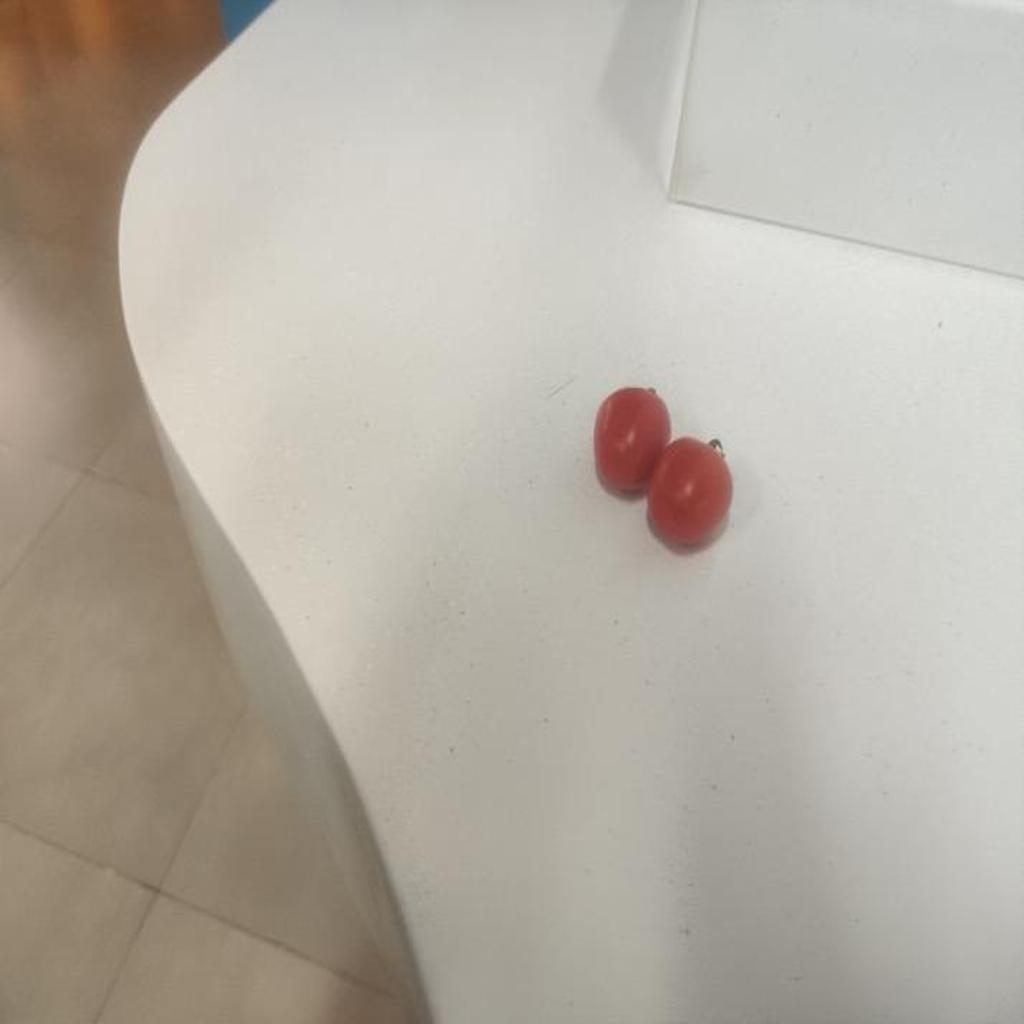tomato: (639, 435, 740, 547), (592, 387, 673, 492)
